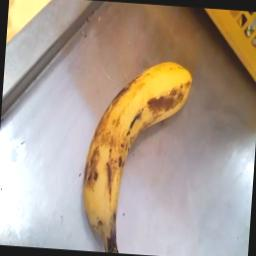Banana Overripe: (80, 37, 177, 256)
